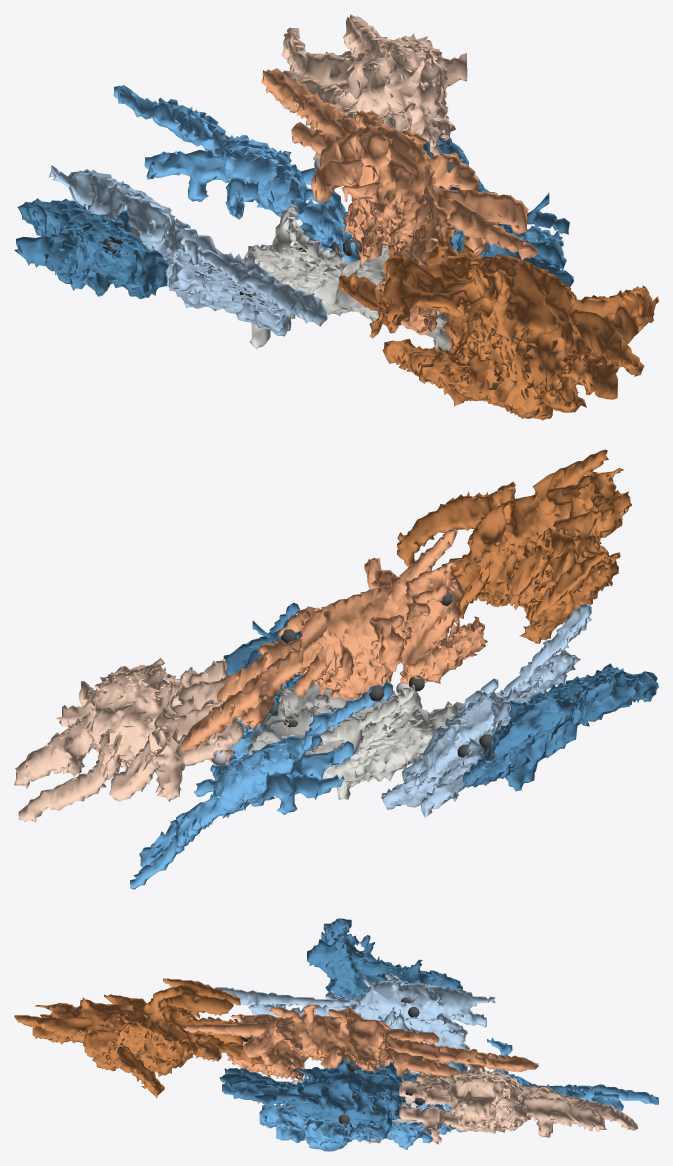
Rendered from smple_1_2_group_1.glb.
3 renders of one model, top to bottom at view 1: azimuth 30°, elevation 25°; view 2: azimuth 150°, elevation 25°; view 3: azimuth 270°, elevation 25°, orthographic. The views are drawn at different scales.
Visible parts, largest first — view 1: osteocyte_83_round, osteocyte_84_round, osteocyte_58_round, osteocyte_43_elongated, osteocyte_52_elongated, osteocyte_48_elongated, osteocyte_24_untyped, osteocyte_62_elongated, osteocyte_51_elongated, osteocyte_28_untyped; view 2: osteocyte_84_round, osteocyte_83_round, osteocyte_58_round, osteocyte_43_elongated, osteocyte_52_elongated, osteocyte_24_untyped, osteocyte_48_elongated, osteocyte_62_elongated, osteocyte_28_untyped, osteocyte_51_elongated; view 3: osteocyte_83_round, osteocyte_84_round, osteocyte_58_round, osteocyte_51_elongated, osteocyte_52_elongated, osteocyte_48_elongated, osteocyte_3_elongated, osteocyte_62_elongated, osteocyte_43_elongated.
Boxes of the visible parts, x1,y1,x2,y2 form: osteocyte_83_round: [339, 235, 658, 420]; osteocyte_84_round: [261, 68, 536, 335]; osteocyte_58_round: [281, 14, 467, 160]; osteocyte_43_elongated: [113, 85, 360, 262]; osteocyte_52_elongated: [14, 198, 169, 298]; osteocyte_48_elongated: [136, 218, 327, 336]; osteocyte_24_untyped: [242, 204, 381, 349]; osteocyte_62_elongated: [49, 165, 184, 257]; osteocyte_51_elongated: [421, 136, 573, 287]; osteocyte_28_untyped: [321, 244, 451, 350]; osteocyte_84_round: [180, 528, 487, 751]; osteocyte_83_round: [396, 449, 631, 643]; osteocyte_58_round: [14, 658, 249, 822]; osteocyte_43_elongated: [130, 681, 393, 889]; osteocyte_52_elongated: [462, 663, 658, 791]; osteocyte_24_untyped: [319, 684, 463, 799]; osteocyte_48_elongated: [381, 603, 591, 817]; osteocyte_62_elongated: [414, 688, 519, 785]; osteocyte_28_untyped: [244, 682, 398, 754]; osteocyte_51_elongated: [223, 589, 370, 732]; osteocyte_83_round: [14, 978, 264, 1098]; osteocyte_84_round: [182, 1004, 538, 1080]; osteocyte_58_round: [399, 1063, 637, 1144]; osteocyte_51_elongated: [219, 1057, 417, 1138]; osteocyte_52_elongated: [307, 918, 462, 1000]; osteocyte_48_elongated: [214, 987, 486, 1049]; osteocyte_3_elongated: [259, 1104, 450, 1151]; osteocyte_62_elongated: [360, 973, 495, 1021]; osteocyte_43_elongated: [375, 1037, 658, 1132].
Size of the model in its own units: 79.1 by 23.19 by 131.
